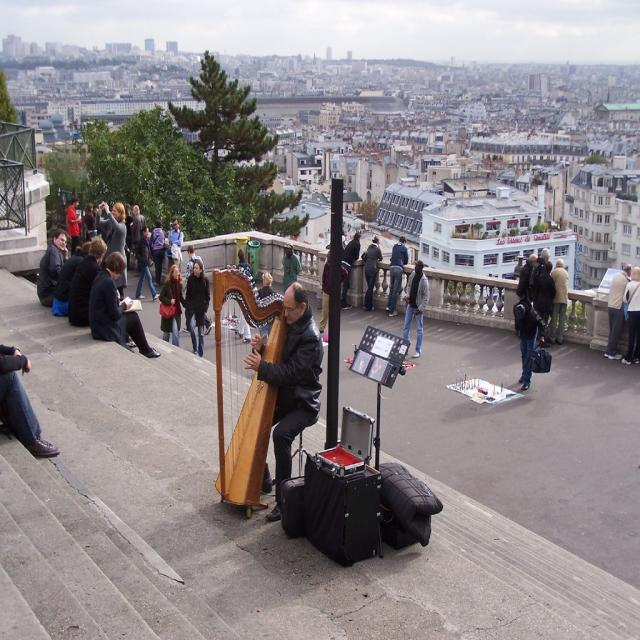harp: (210, 265, 288, 512)
